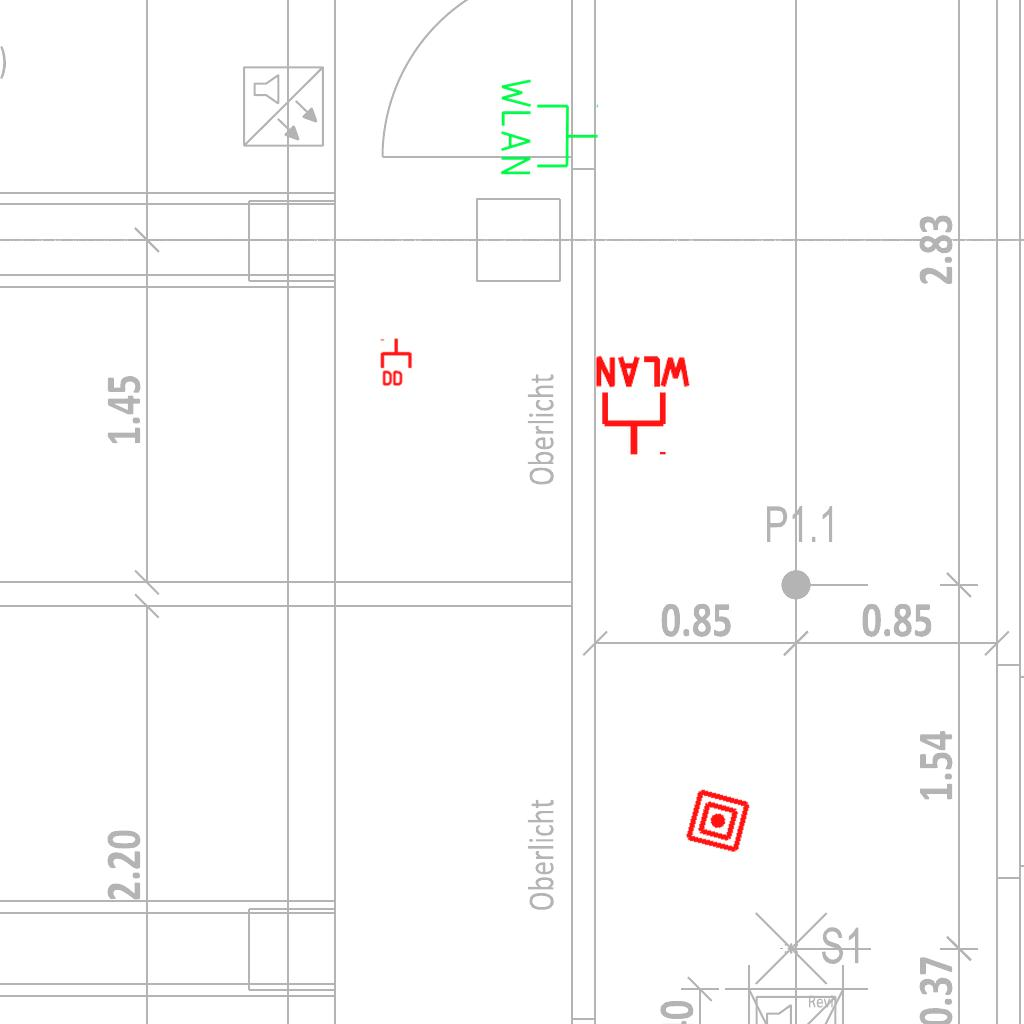Datenanschluss_zweifach: (380, 337, 414, 388)
NAM-Nichtautomatischer_Melder: (683, 786, 753, 856)
WLAN: (591, 354, 695, 459), (497, 74, 601, 179)
